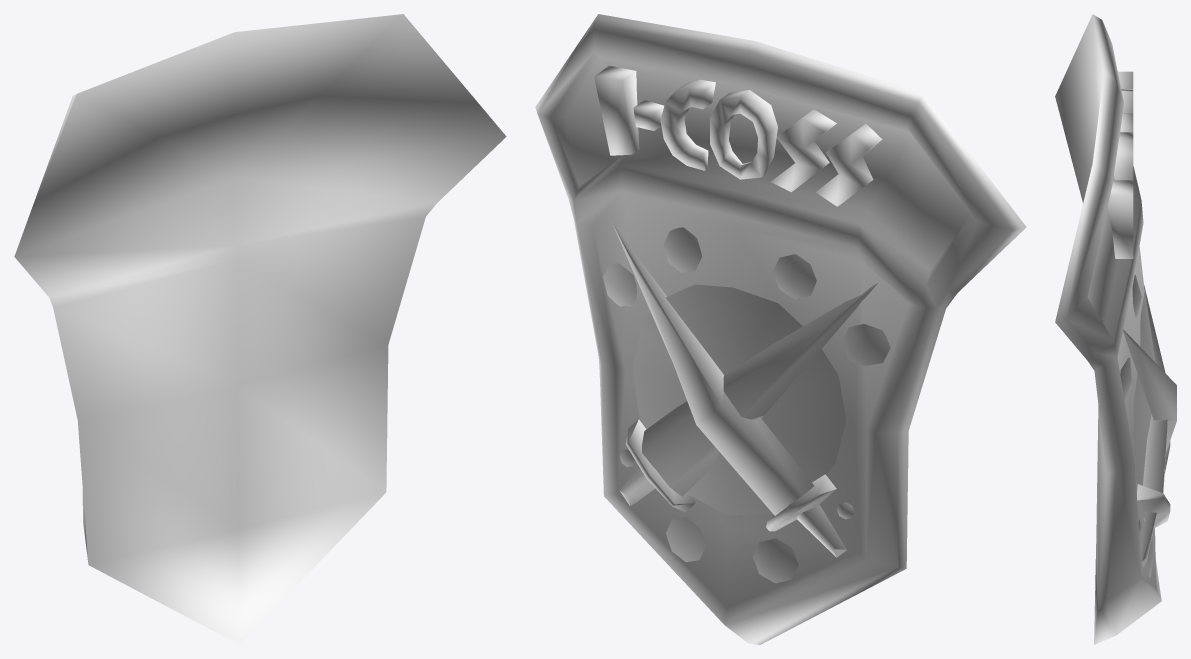
Rendered from icoss.ico.obj.
The picture shows the model from 3 angles, left to right: view 1: azimuth 30°, elevation 25°; view 2: azimuth 150°, elevation 25°; view 3: azimuth 270°, elevation 25°; orthographic projection. The views are drawn at different scales.
Bounding box in the file's own units: 3.93 × 4.65 × 0.897.
Materials: 1 (1 with a texture image).
